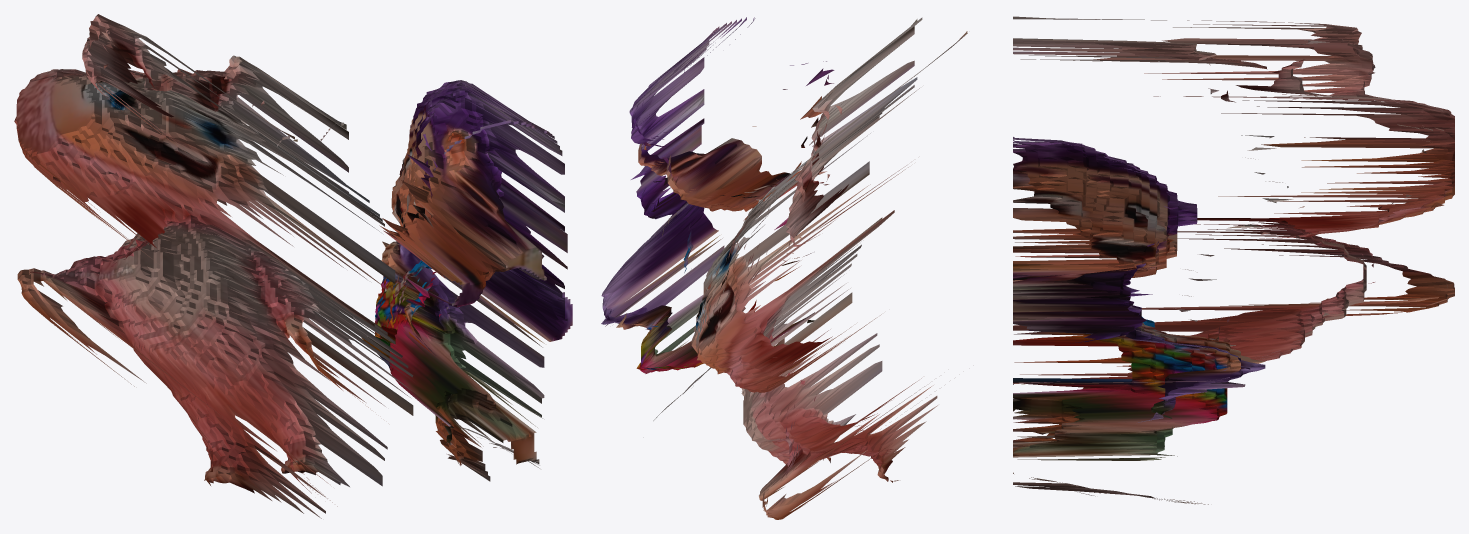
The model's file is frame_00076.glb.
3 views of the same model, side by side, from view 1: azimuth 30°, elevation 25°; view 2: azimuth 150°, elevation 25°; view 3: azimuth 270°, elevation 25° (orthographic). The views are drawn at different scales.
Parts seen in each view (by area): view 1: geometry_0; view 2: geometry_0; view 3: geometry_0.
Part boxes in pixels (x1,y1,x2,y2): geometry_0: [14, 14, 572, 518]; geometry_0: [601, 17, 967, 519]; geometry_0: [1013, 16, 1454, 504].
Bounding box in the file's own units: 0.1248 × 0.1556 × 0.16.
1 material, 1 textured.
